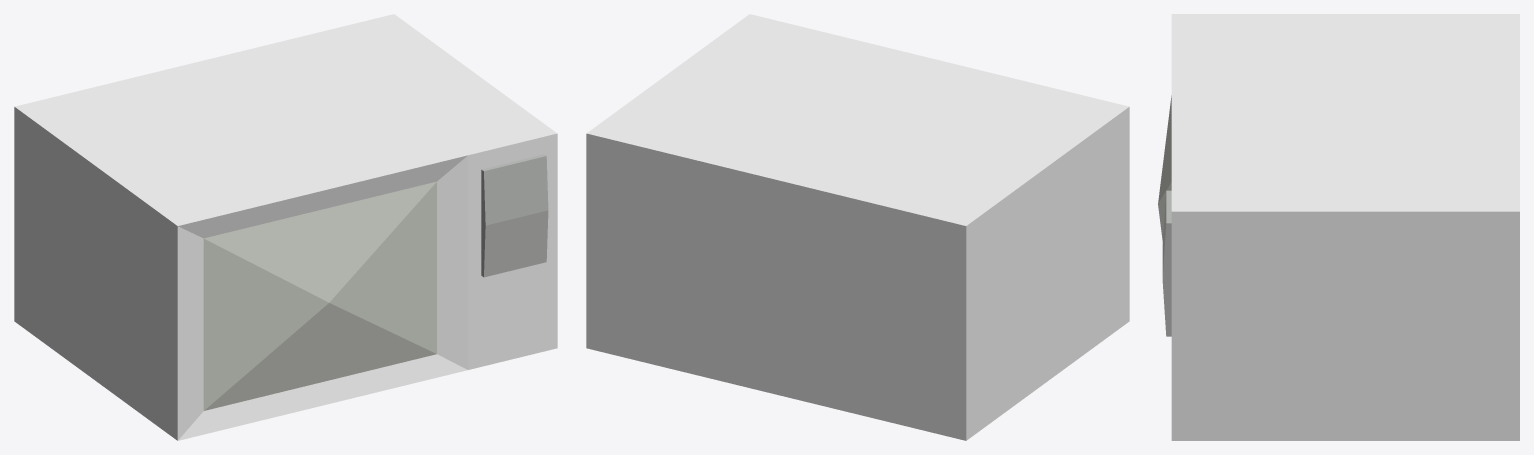
The model's file is hard_microwave.fbx.
3 views of the same model, side by side, from view 1: azimuth 30°, elevation 25°; view 2: azimuth 150°, elevation 25°; view 3: azimuth 270°, elevation 25° (orthographic). The views are drawn at different scales.
Parts seen in each view (by area): view 1: hard_microwave; view 2: hard_microwave; view 3: hard_microwave.
Boxes of the visible parts, <box> form: hard_microwave: <box>14,14,557,440</box>; hard_microwave: <box>586,14,1129,440</box>; hard_microwave: <box>1158,14,1519,440</box>.
Bounding box in the file's own units: 2.69 × 1.45 × 2.08.
